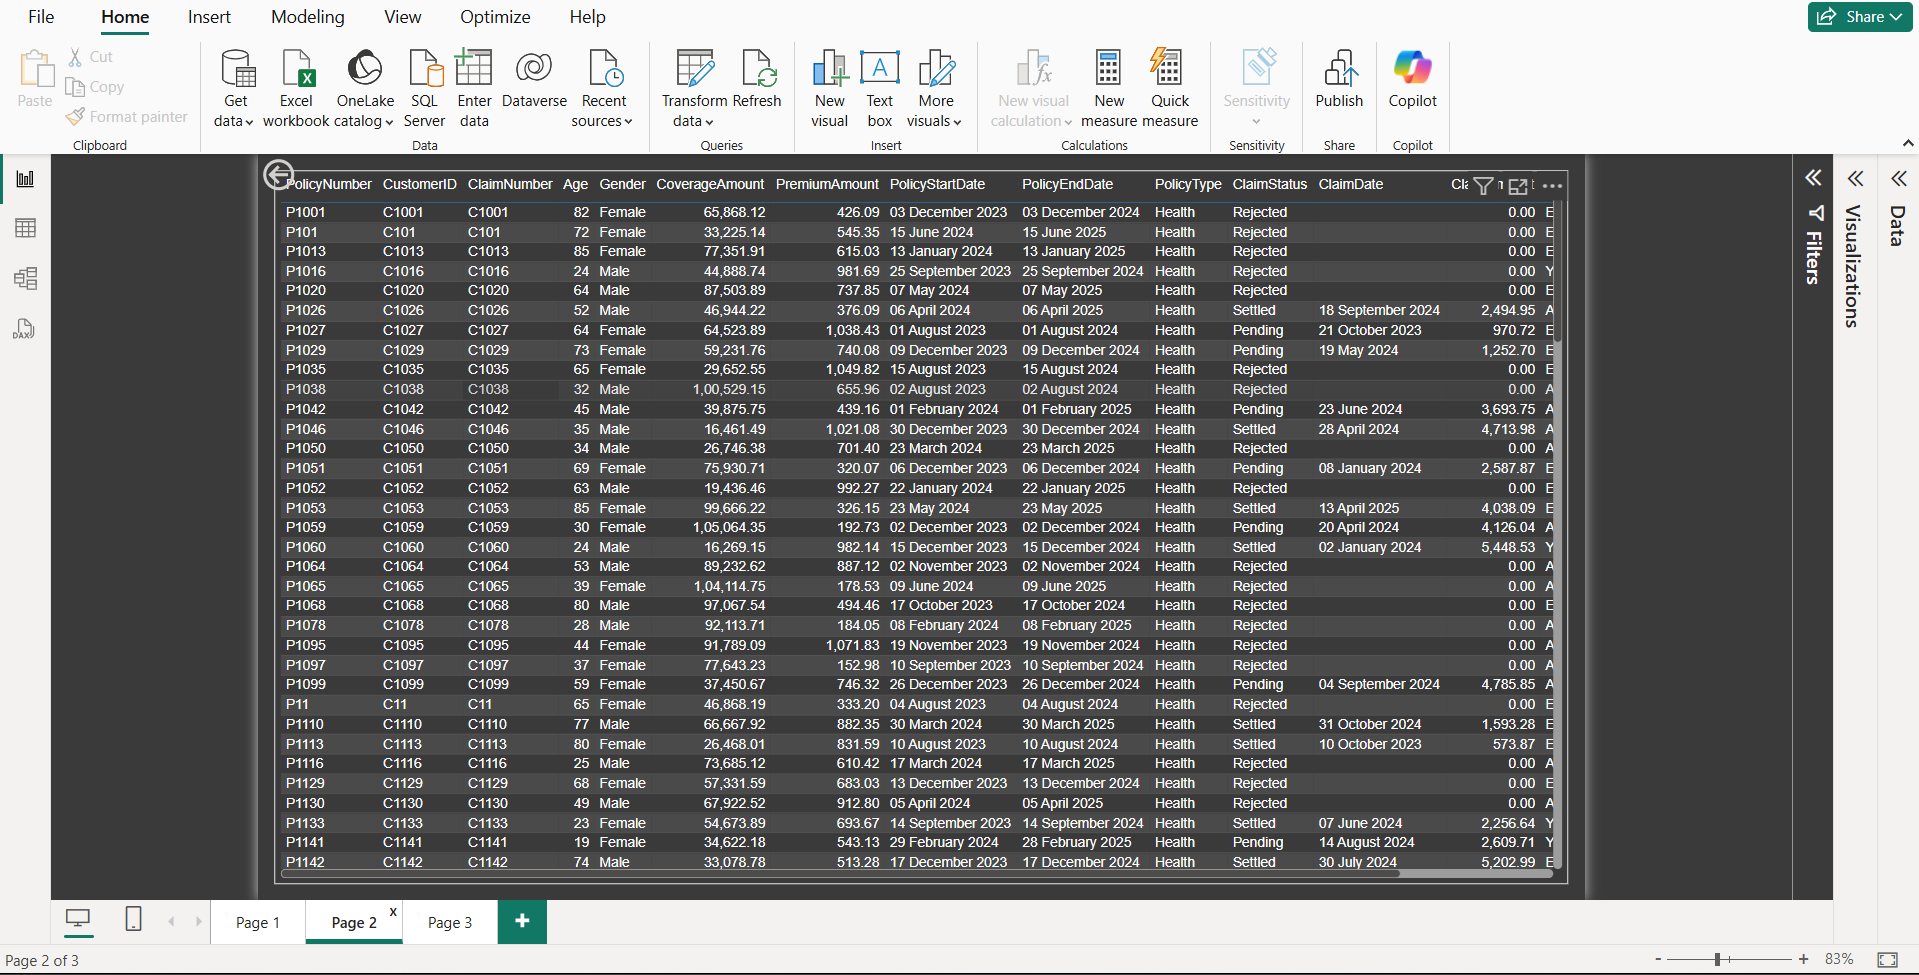

The dashboard page shown, as its layout file describes it:
{"tool":"powerbi","page":{"name":"Page 2","canvas":[1280,720],"ordinal":1},"visuals":[{"type":"tableEx","fields":{"Values":["InsuranceData.PolicyNumber","InsuranceData.CustomerID","InsuranceData.ClaimNumber","InsuranceData.Age","InsuranceData.Gender","InsuranceData.CoverageAmount","InsuranceData.PremiumAmount","InsuranceData.PolicyStartDate","InsuranceData.PolicyEndDate","InsuranceData.PolicyType","InsuranceData.ClaimStatus","InsuranceData.ClaimDate"]},"box":[16,16,1248,688],"z":0},{"type":"actionButton","box":[0,0,100,40],"z":1000}]}

Visuals, with their boxes on the page's 1280x720 design canvas (x1, y1, x2, y2). These are canvas units, not pixel positions in the 1919x975 screenshot, which may show the page scaled, cropped or inside an application window:
tableEx - InsuranceData.PolicyNumber x InsuranceData.CustomerID: {"left": 16, "top": 16, "right": 1264, "bottom": 704}
actionButton: {"left": 0, "top": 0, "right": 100, "bottom": 40}
